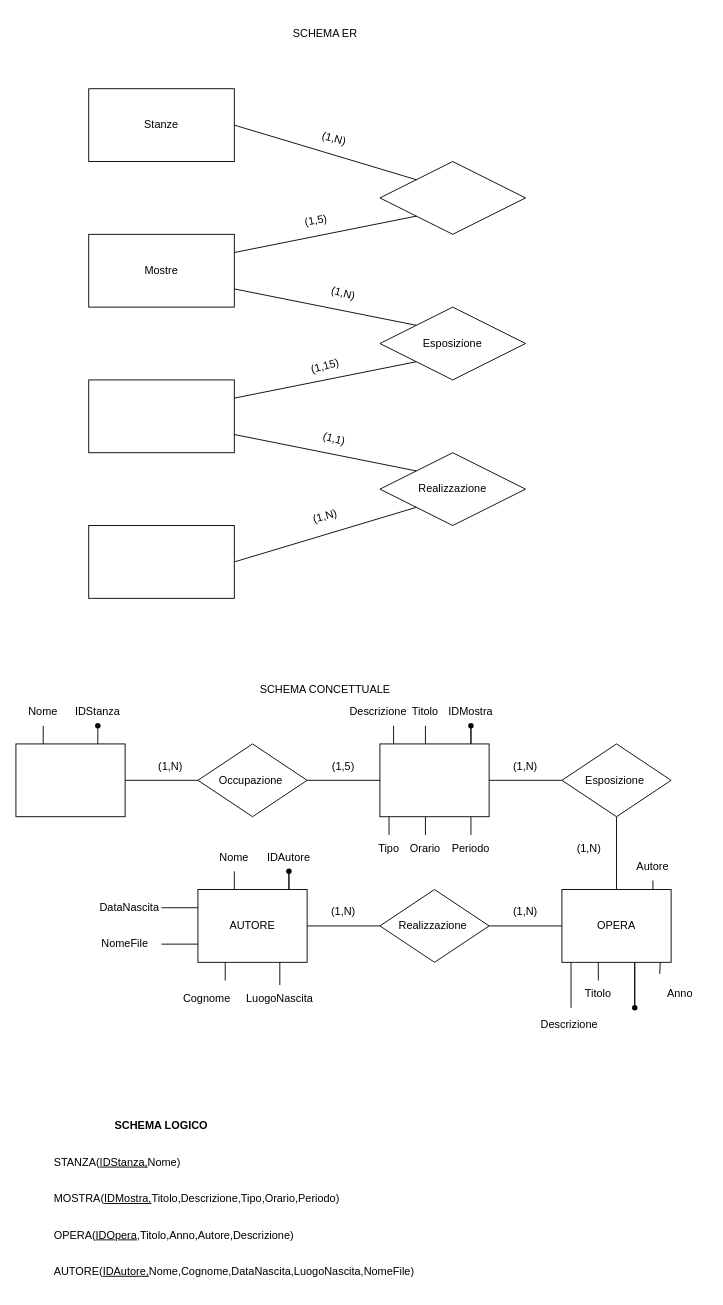
This 723x1305 diagram has some shape labels left out. The centre of each missing label's shape, as x and y in pixels:
Autori: (x=161, y=561)
IDOpera: (x=634, y=1007)
MOSTRA: (x=434, y=780)
Opere: (x=161, y=416)
STANZA: (x=70, y=780)
Svolgimento: (x=452, y=197)
